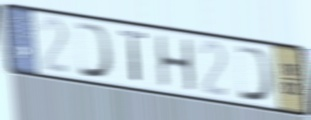2: (198, 39, 231, 100), (39, 15, 71, 77)
D: (73, 19, 116, 82), (233, 43, 276, 105)
H: (154, 33, 198, 94)
T: (118, 27, 150, 85)
